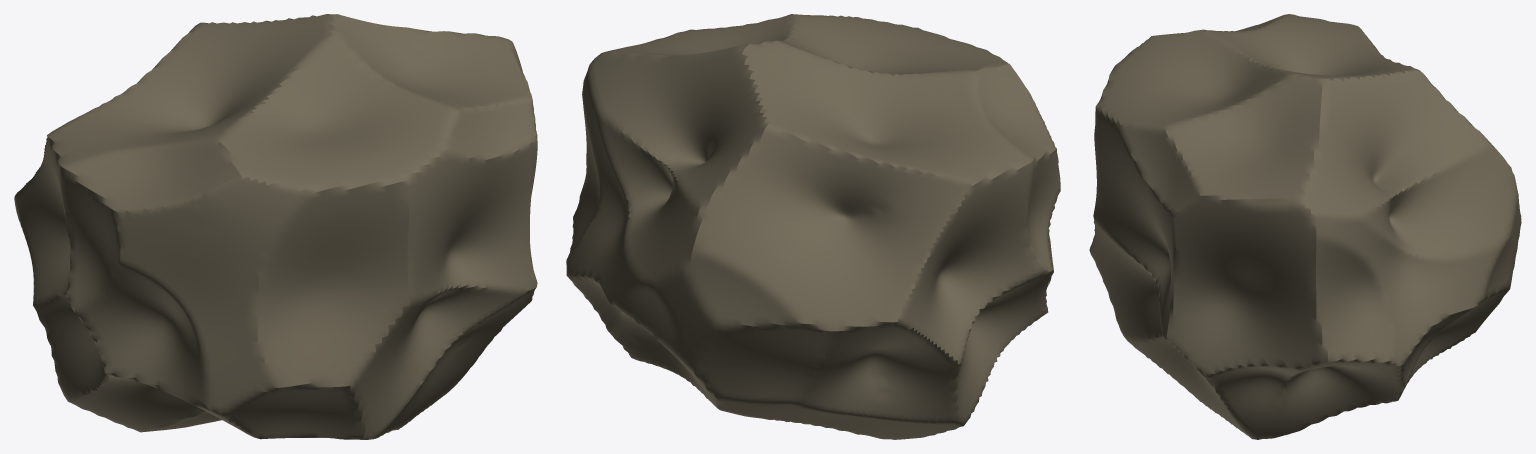
The model's file is singular_Boulder_Col.fbx.
3 renders of one model, left to right at view 1: azimuth 30°, elevation 25°; view 2: azimuth 150°, elevation 25°; view 3: azimuth 270°, elevation 25°, orthographic. The views are drawn at different scales.
Visible parts, largest first — view 1: singular_Boulder; view 2: singular_Boulder; view 3: singular_Boulder.
Boxes of the visible parts, <box> form: singular_Boulder: <box>14,14,537,439</box>; singular_Boulder: <box>566,14,1060,439</box>; singular_Boulder: <box>1089,14,1521,439</box>.
Bounding box in the file's own units: 54.55 × 41.4 × 48.12.
